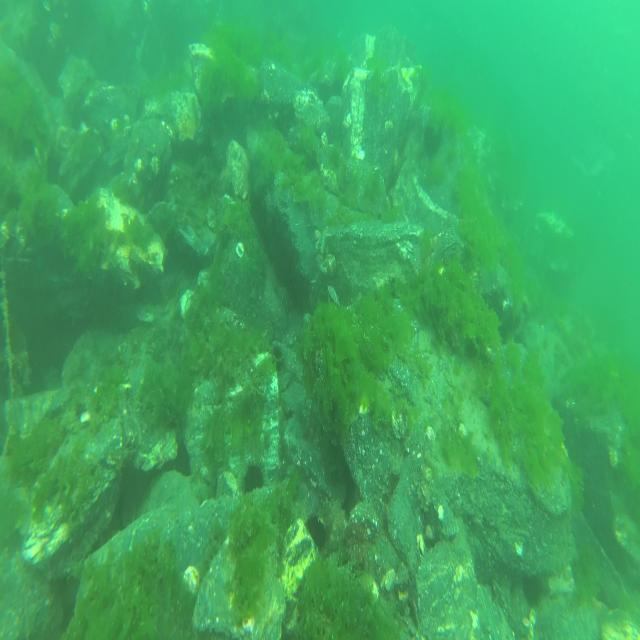echinus: (241, 459, 267, 494), (304, 513, 327, 552), (521, 571, 543, 607), (423, 124, 442, 160), (270, 343, 285, 370), (198, 139, 215, 162)
